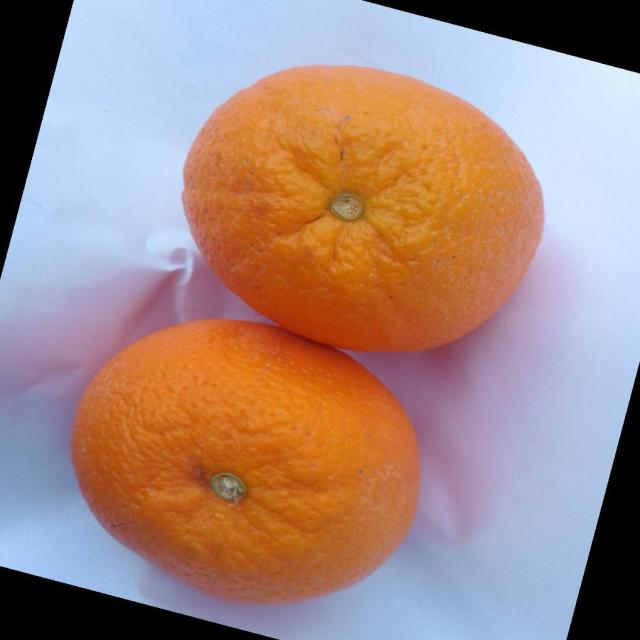fresh orange: (180, 62, 545, 353), (70, 316, 421, 606)
